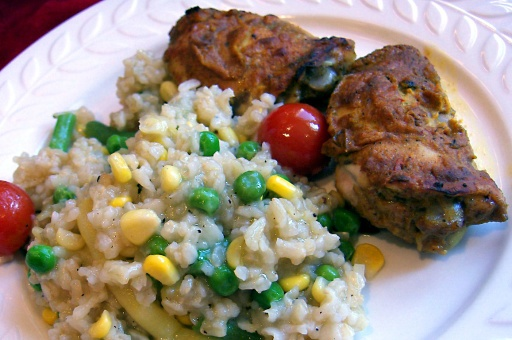background: (0, 3, 408, 180)
